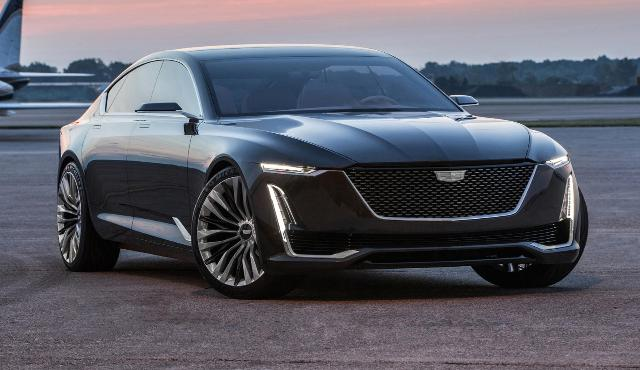cadillac: (56, 44, 590, 298)
